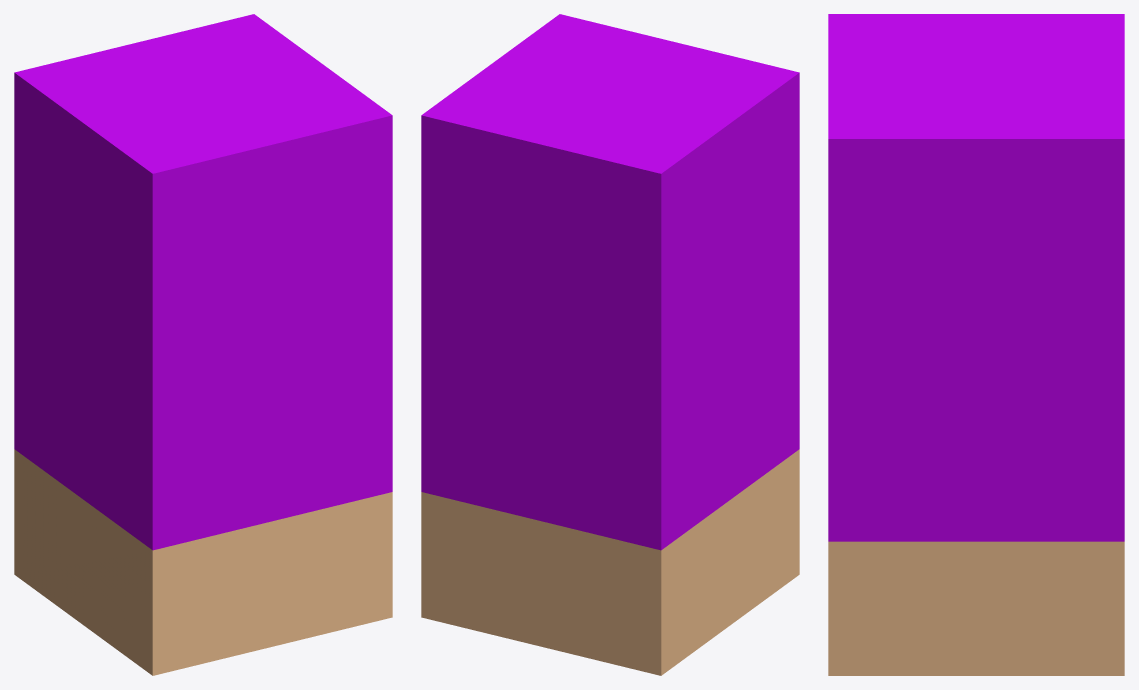
Rendered from leg8.obj.
3 views of the same model, side by side, from view 1: azimuth 30°, elevation 25°; view 2: azimuth 150°, elevation 25°; view 3: azimuth 270°, elevation 25° (orthographic). The views are drawn at different scales.
Bounding box in the file's own units: 0.2 × 0.4 × 0.2.
Materials: 1 (1 with a texture image).
